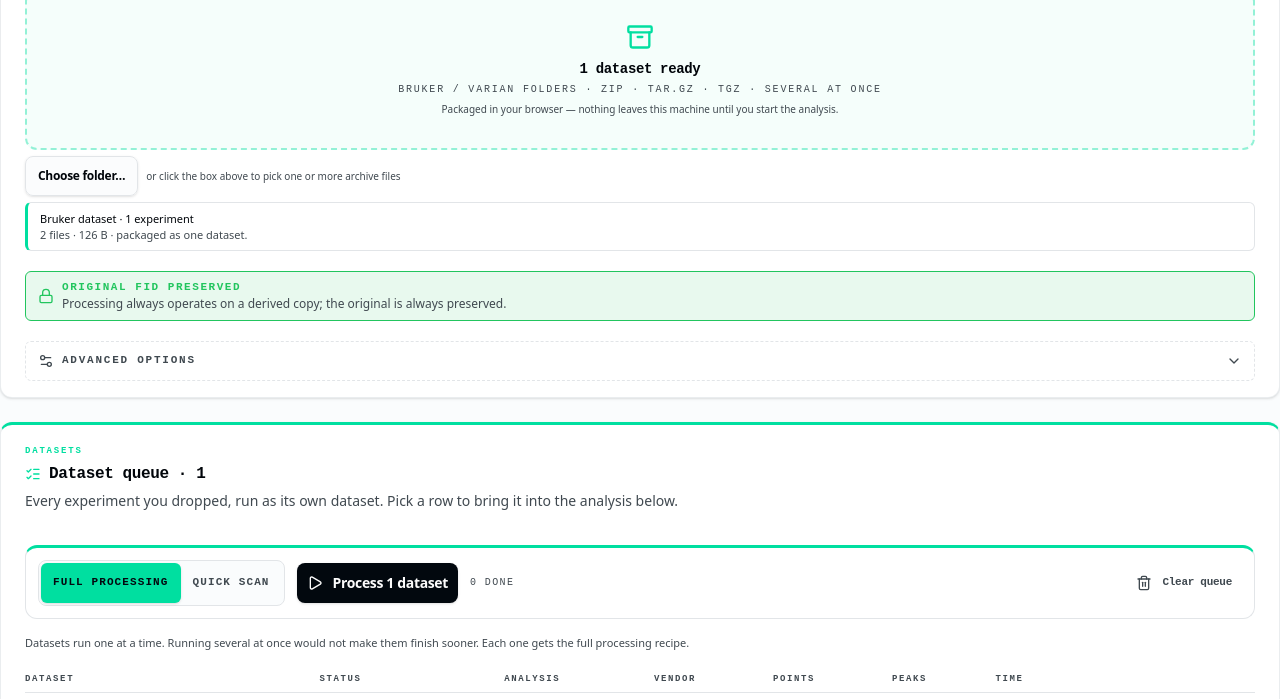
Test: dropping an instrument folder › names the solvent disagreement without silently swapping it
Earlier steps of the test are not shown.
(page scrolled)
Click the button "Advanced options". click: [129, 360]
box: x1=25 y1=341 x2=1255 y2=381
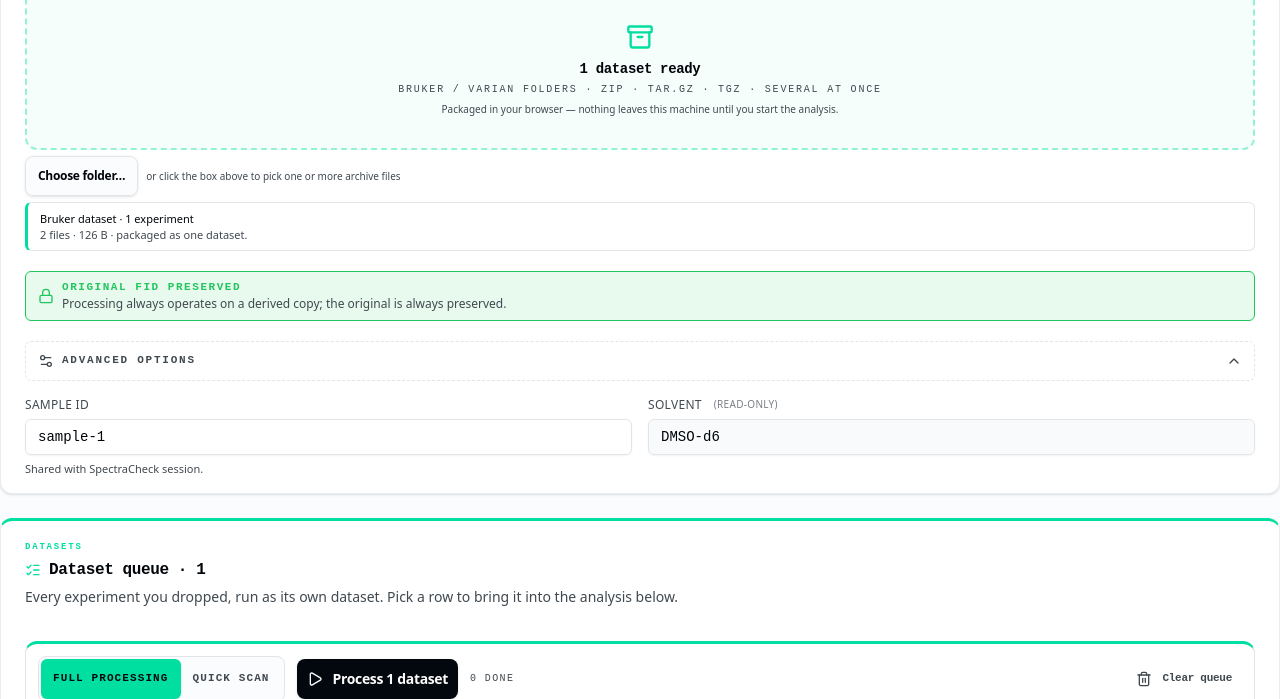
Result: the field labelled "Solvent (read-only)" holds "DMSO-d6" at x1=648 y1=419 x2=1255 y2=455
